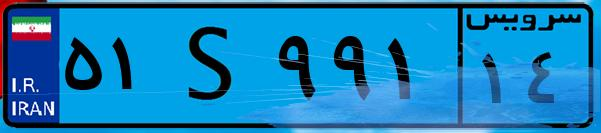1: (385, 28, 445, 110), (475, 38, 525, 113), (110, 28, 158, 98)
4: (525, 38, 570, 115)
5: (57, 26, 110, 100)
9: (270, 28, 330, 110), (330, 28, 385, 110)
S: (158, 12, 270, 120)
